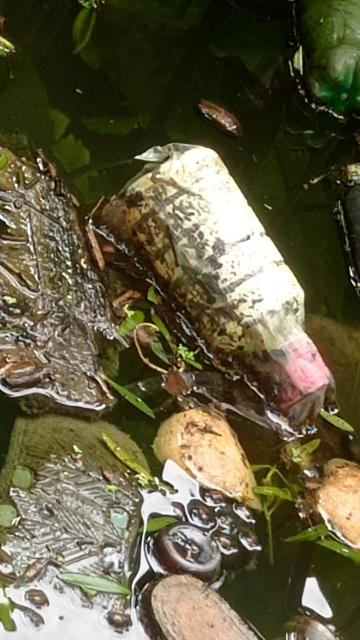bottle: (89, 129, 343, 431)
